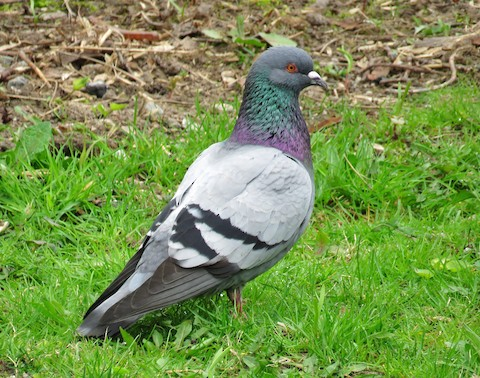pigeon: (72, 41, 334, 345)
